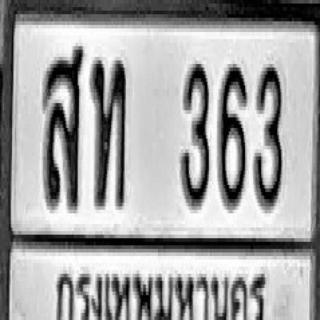A23: (91, 57, 126, 206)
A40: (43, 43, 83, 206)
N03: (180, 60, 210, 206), (253, 64, 282, 210)
N06: (218, 62, 246, 208)
